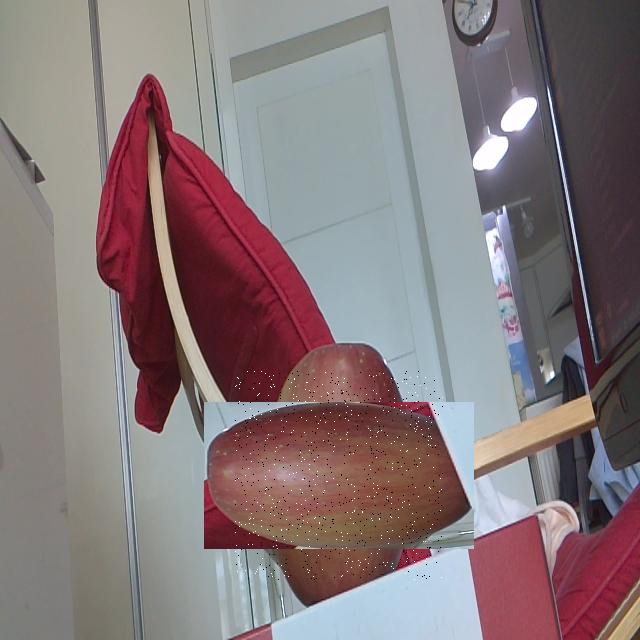apple: (235, 371, 443, 580)
